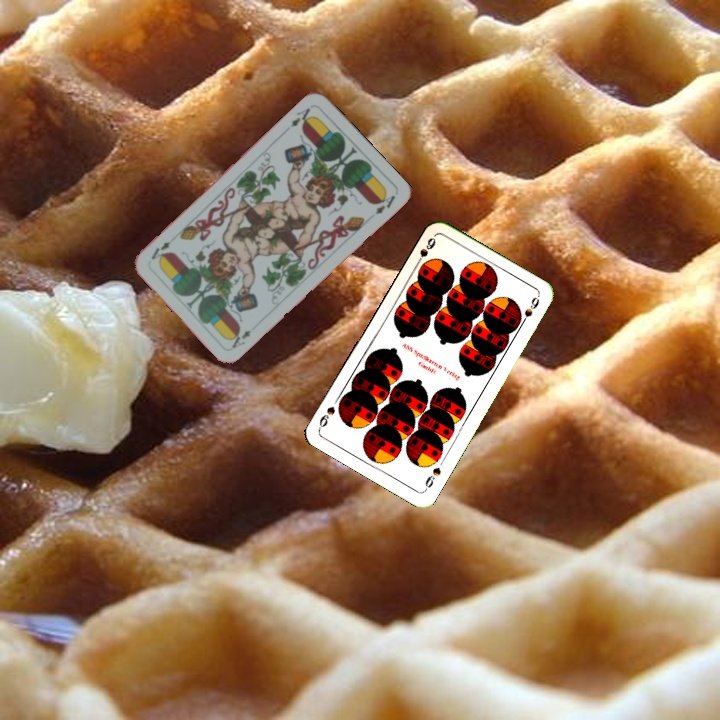EA: (286, 104, 316, 130), (226, 326, 254, 351)
S9: (412, 233, 438, 269), (421, 463, 444, 494)
